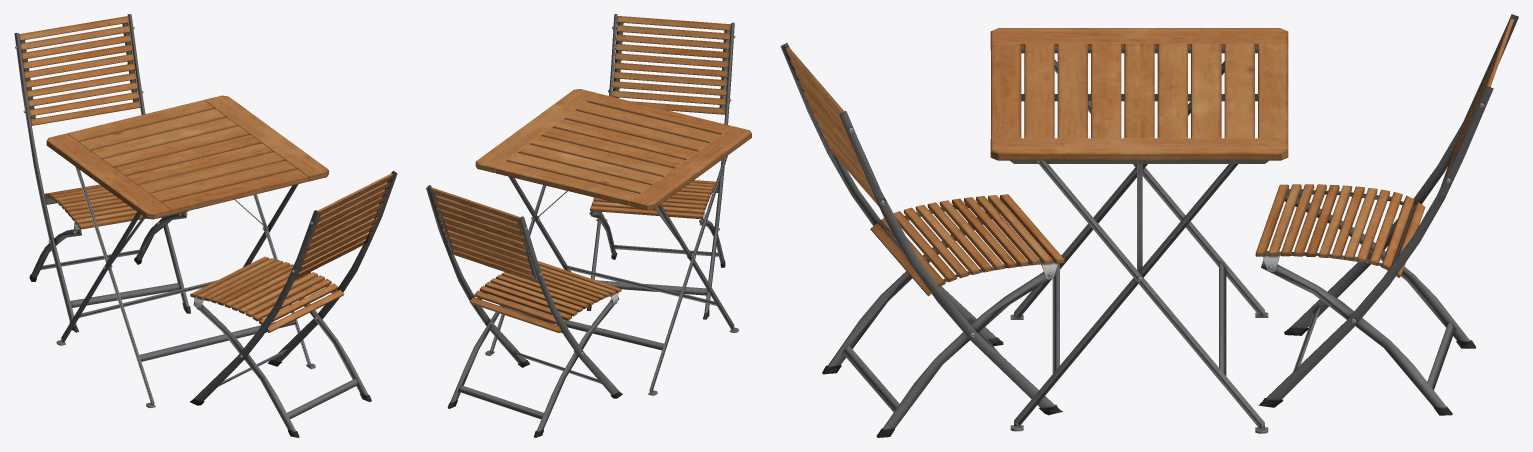
Rendered from outdoor_table_chair_set_01.glb.
3 renders of one model, left to right at view 1: azimuth 30°, elevation 25°; view 2: azimuth 150°, elevation 25°; view 3: azimuth 270°, elevation 25°, orthographic. The views are drawn at different scales.
Parts seen in each view (by area): view 1: outdoor_table_chair_set_01_table, outdoor_table_chair_set_01_chair_02, outdoor_table_chair_set_01_chair_01; view 2: outdoor_table_chair_set_01_table, outdoor_table_chair_set_01_chair_02, outdoor_table_chair_set_01_chair_01; view 3: outdoor_table_chair_set_01_table, outdoor_table_chair_set_01_chair_01, outdoor_table_chair_set_01_chair_02.
Boxes of the visible parts, x1=… form: outdoor_table_chair_set_01_table: x1=46, y1=95, x2=328, y2=407; outdoor_table_chair_set_01_chair_02: x1=14, y1=14, x2=190, y2=332; outdoor_table_chair_set_01_chair_01: x1=190, y1=171, x2=397, y2=437; outdoor_table_chair_set_01_table: x1=475, y1=89, x2=751, y2=395; outdoor_table_chair_set_01_chair_02: x1=426, y1=185, x2=622, y2=437; outdoor_table_chair_set_01_chair_01: x1=587, y1=14, x2=735, y2=319; outdoor_table_chair_set_01_table: x1=990, y1=28, x2=1288, y2=433; outdoor_table_chair_set_01_chair_01: x1=780, y1=43, x2=1064, y2=437; outdoor_table_chair_set_01_chair_02: x1=1255, y1=14, x2=1518, y2=415.
Bounding box in the file's own units: 0.7417 × 0.8575 × 1.72.
Materials: 2 (2 with a texture image).
